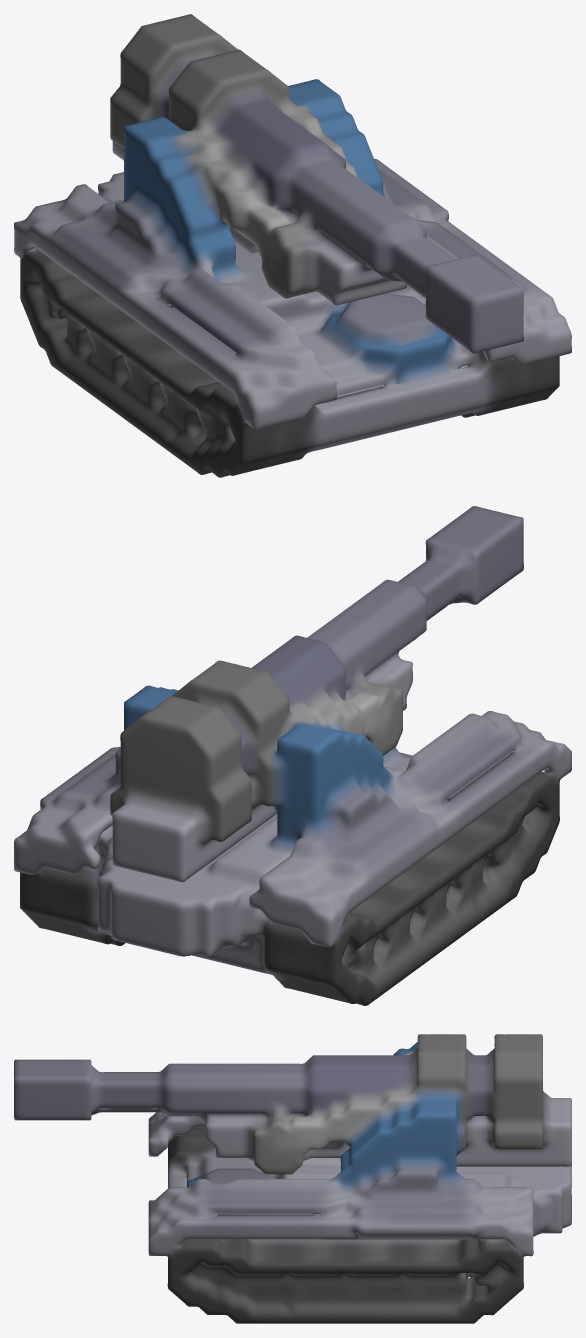
The model's file is tank_destroyer.glb.
3 views of the same model, one above another, from view 1: azimuth 30°, elevation 25°; view 2: azimuth 150°, elevation 25°; view 3: azimuth 270°, elevation 25° (orthographic). The views are drawn at different scales.
Parts seen in each view (by area): view 1: tank_destroyer; view 2: tank_destroyer; view 3: tank_destroyer.
Boxes of the visible parts, x1,y1,x2,y2 form: tank_destroyer: (14, 14, 571, 477); tank_destroyer: (14, 506, 571, 1005); tank_destroyer: (14, 1034, 571, 1323).
Bounding box in the file's own units: 2.59 × 2.09 × 4.82.
